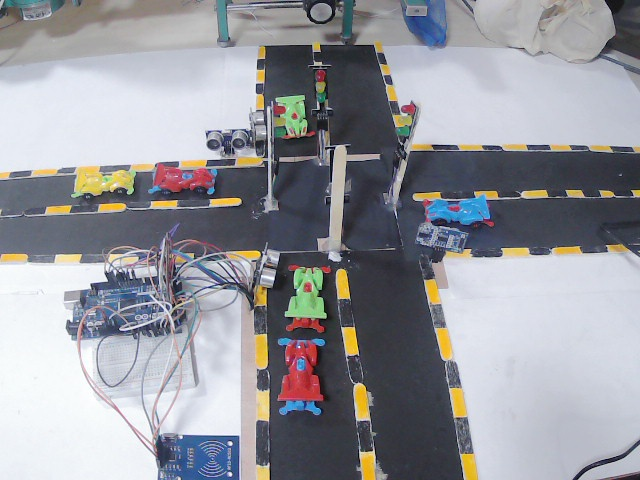car: (275, 339, 327, 416), (291, 260, 335, 329), (427, 194, 505, 231), (152, 162, 220, 199), (276, 91, 316, 149), (71, 167, 136, 200)
traffic_light: (274, 100, 293, 151), (314, 68, 332, 114), (397, 104, 414, 149)
uno_breadboard: (78, 262, 193, 384), (149, 423, 242, 480), (419, 221, 468, 255), (252, 242, 279, 296), (241, 109, 271, 151), (206, 128, 250, 150)
